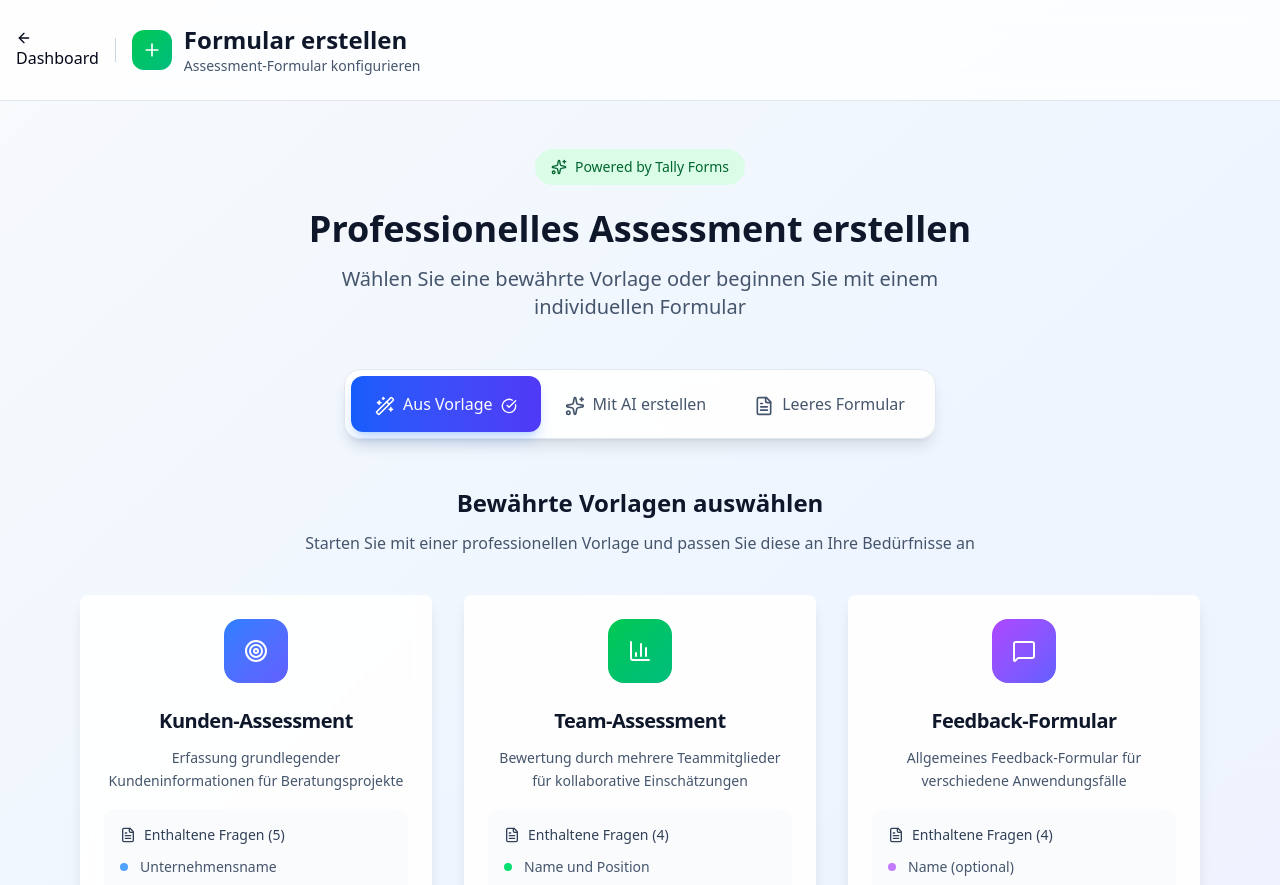
Test: CreateTallyForm › displays feature preview in custom form
# Switch to custom form
What coordinates should you click on to do the following:
click the button "Leeres Formular"
I would click on:
 (830, 404)
Its box is [730,376,929,432].
(page scrolled)
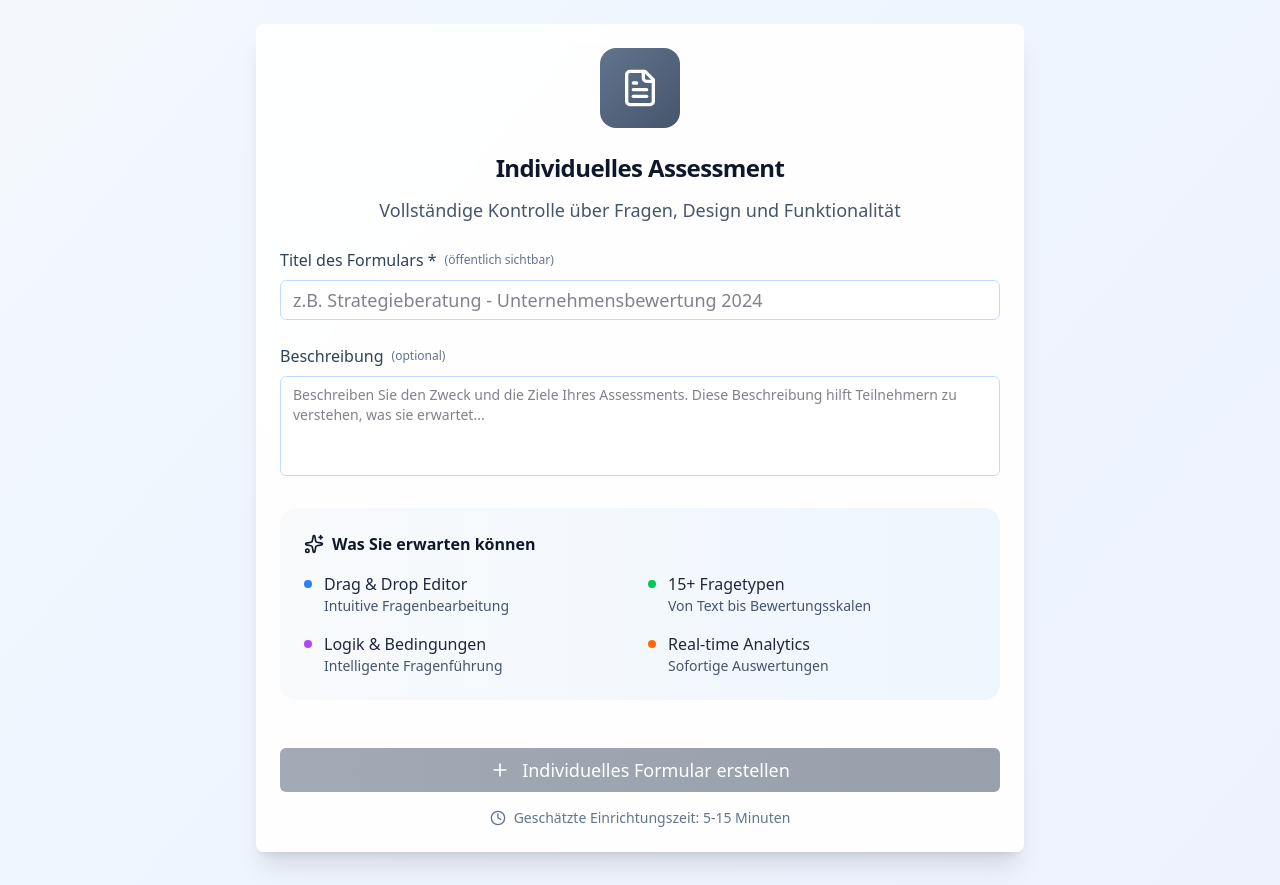
Check: the heading "Was Sie erwarten können" is shown, box [304,533,536,555]
Check: the text "Drag & Drop Editor" is shown, box [324,573,467,595]
Check: the text "15+ Fragetypen" is shown, box [668,573,785,595]
